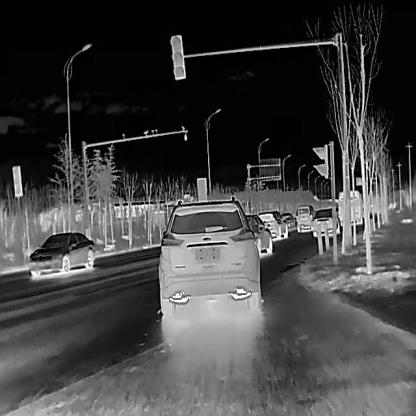bus: (337, 189, 363, 225), (280, 212, 297, 226)
car: (158, 194, 260, 314), (27, 230, 94, 274), (242, 213, 272, 253), (256, 210, 287, 240), (311, 206, 339, 236), (296, 216, 314, 232), (295, 204, 315, 215)
